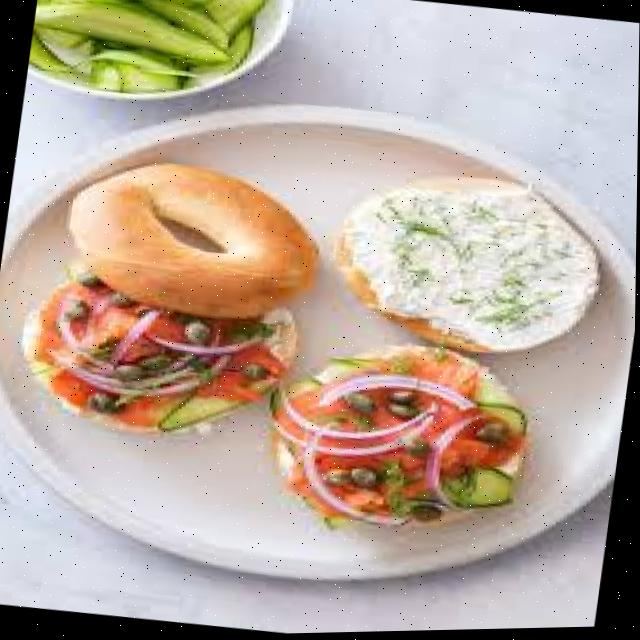Bread: (68, 165, 316, 318)
